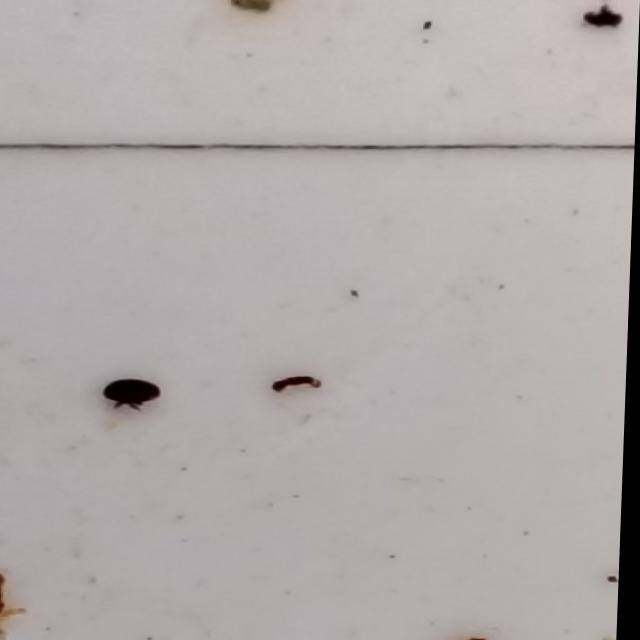varroa: (103, 380, 168, 409)
